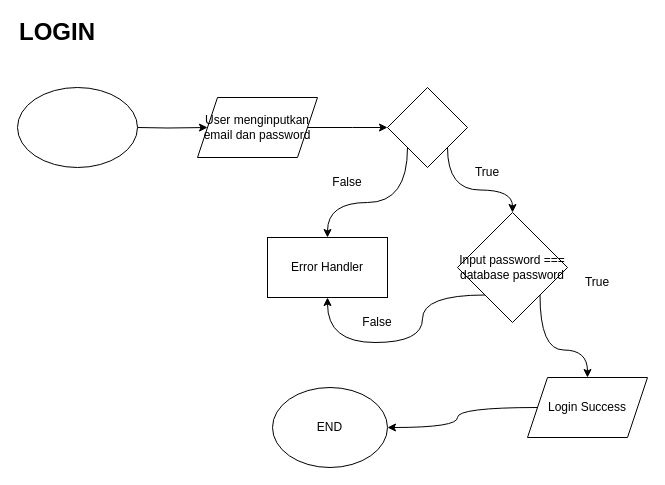
Some shapes in this 665 by 485 pixel diagram are drawn without their labels. Each missing label, with the centre of its shape:
"Apakah email ada didalam database ?" belongs at [427,127].
"Mulai" belongs at [77,127].
